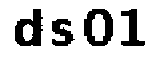0: (81, 4, 114, 51)
1: (118, 7, 148, 53)
d: (9, 4, 46, 53)
s: (46, 18, 75, 50)
